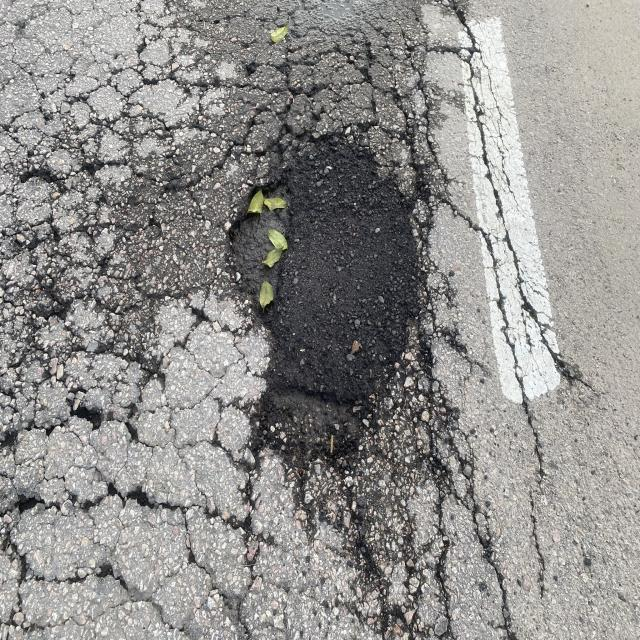Pothole: (194, 86, 439, 528)
